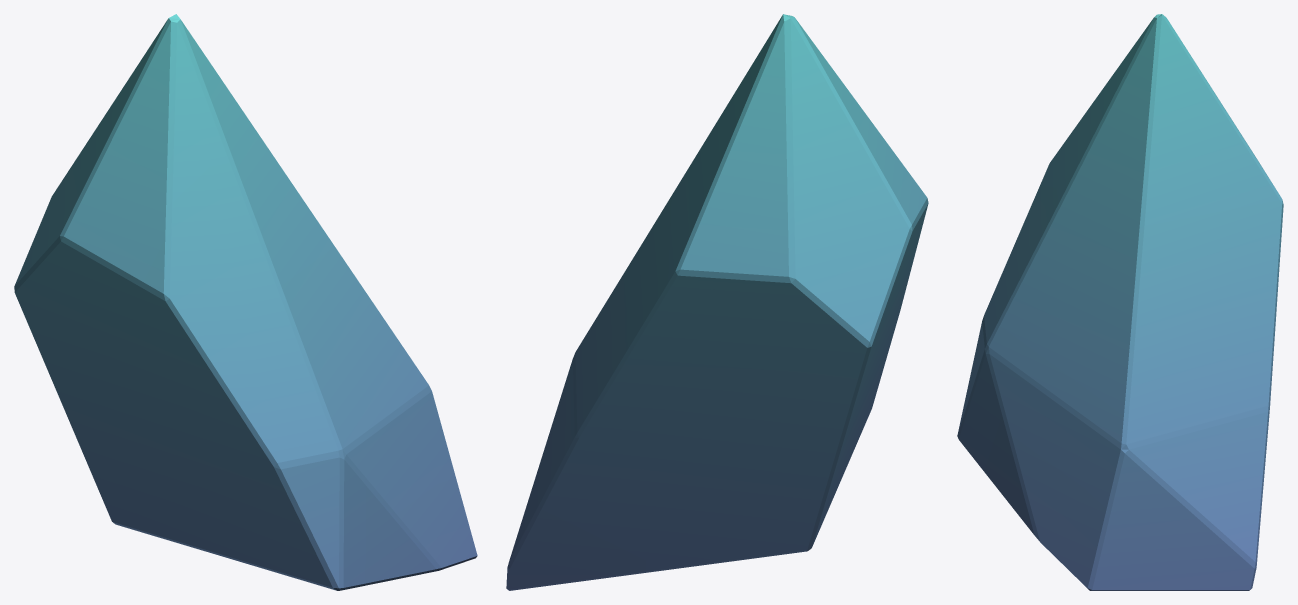
The model's file is cristal_estilhaco_2.fbx.
The picture shows the model from 3 angles, left to right: view 1: azimuth 30°, elevation 25°; view 2: azimuth 150°, elevation 25°; view 3: azimuth 270°, elevation 25°; orthographic projection. The views are drawn at different scales.
Visible parts, largest first — view 1: cristal_estilhaco_2; view 2: cristal_estilhaco_2; view 3: cristal_estilhaco_2.
Boxes of the visible parts, <box> form: cristal_estilhaco_2: <box>14,14,477,590</box>; cristal_estilhaco_2: <box>506,14,928,590</box>; cristal_estilhaco_2: <box>957,14,1283,590</box>.
Size of the model in its own units: 4.19 by 6.18 by 3.76.
